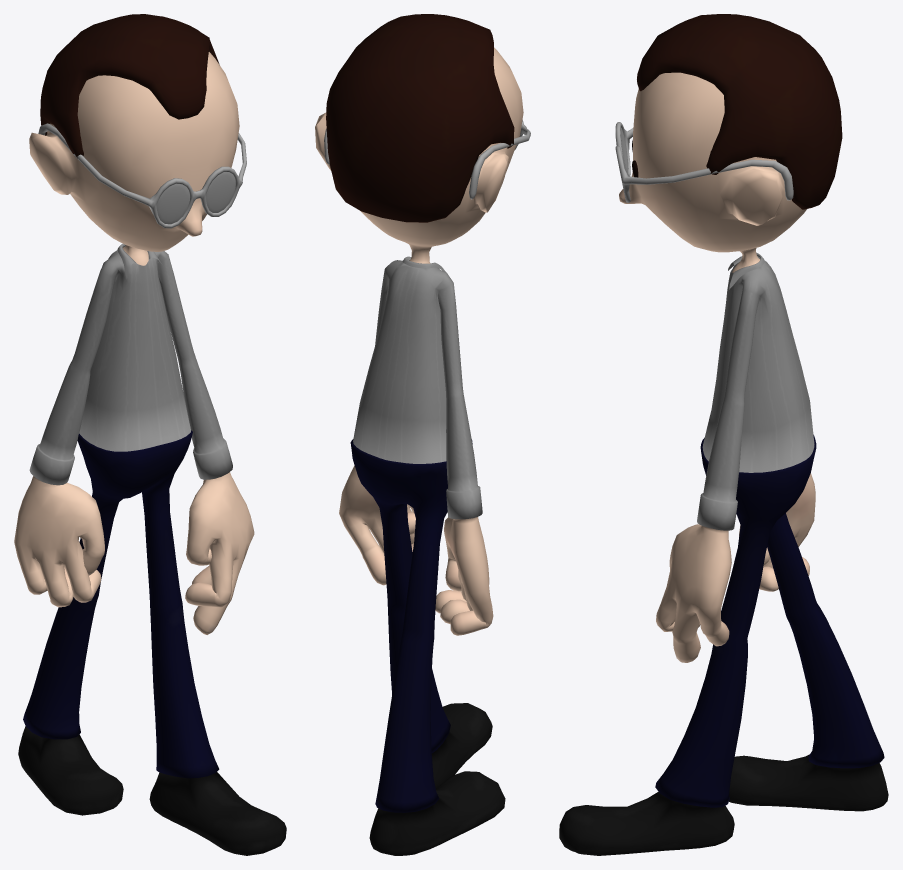
File: Animation_Cartoon_Starter_000073.obj
3 renders of one model, left to right at view 1: azimuth 30°, elevation 25°; view 2: azimuth 150°, elevation 25°; view 3: azimuth 270°, elevation 25°, orthographic. The views are drawn at different scales.
Parts seen in each view (by area): view 1: bm_09; view 2: bm_09; view 3: bm_09.
Part boxes in pixels (x1,y1,x2,y2): bm_09: (14, 14, 286, 855); bm_09: (315, 14, 530, 855); bm_09: (559, 14, 888, 855).
Size of the model in its own units: 0.3893 by 1.5 by 0.56.
3 materials, 1 textured.
